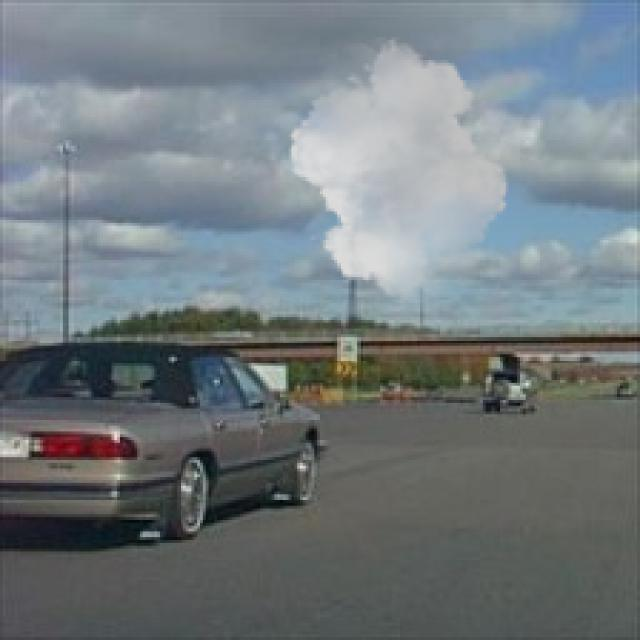smoke: (280, 37, 517, 303)
